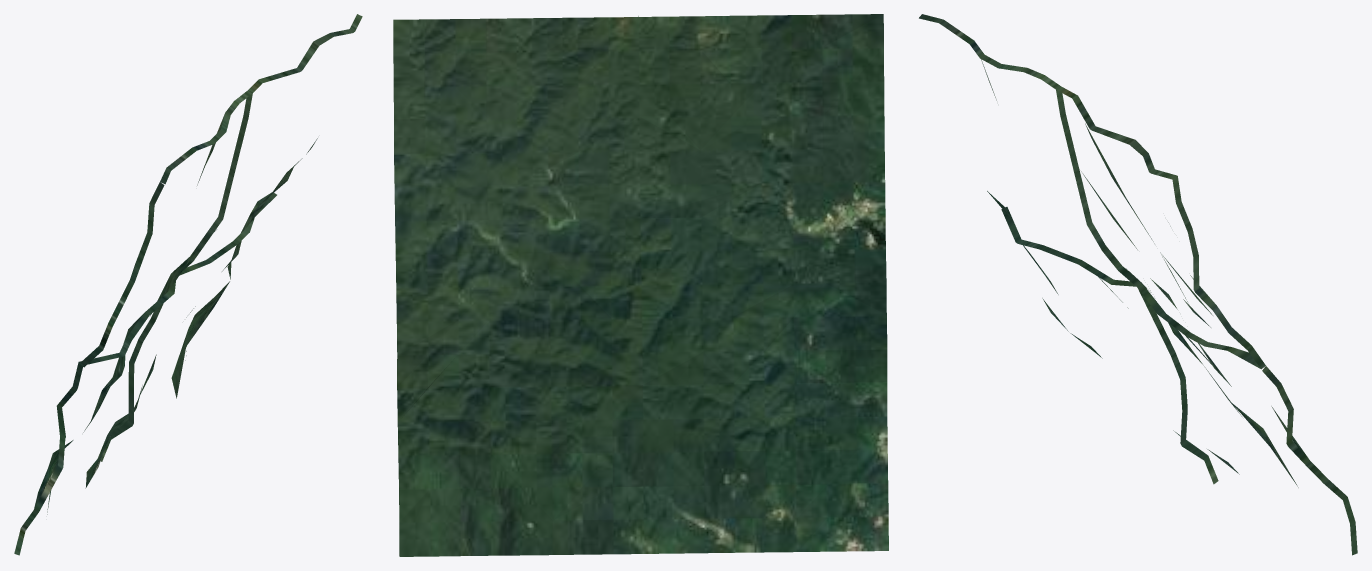
The picture shows the model from 3 angles, left to right: view 1: azimuth 30°, elevation 25°; view 2: azimuth 150°, elevation 25°; view 3: azimuth 270°, elevation 25°; orthographic projection. The views are drawn at different scales.
Size of the model in its own units: 9358 by 9415 by 8370.
Materials: 1 (1 with a texture image).
